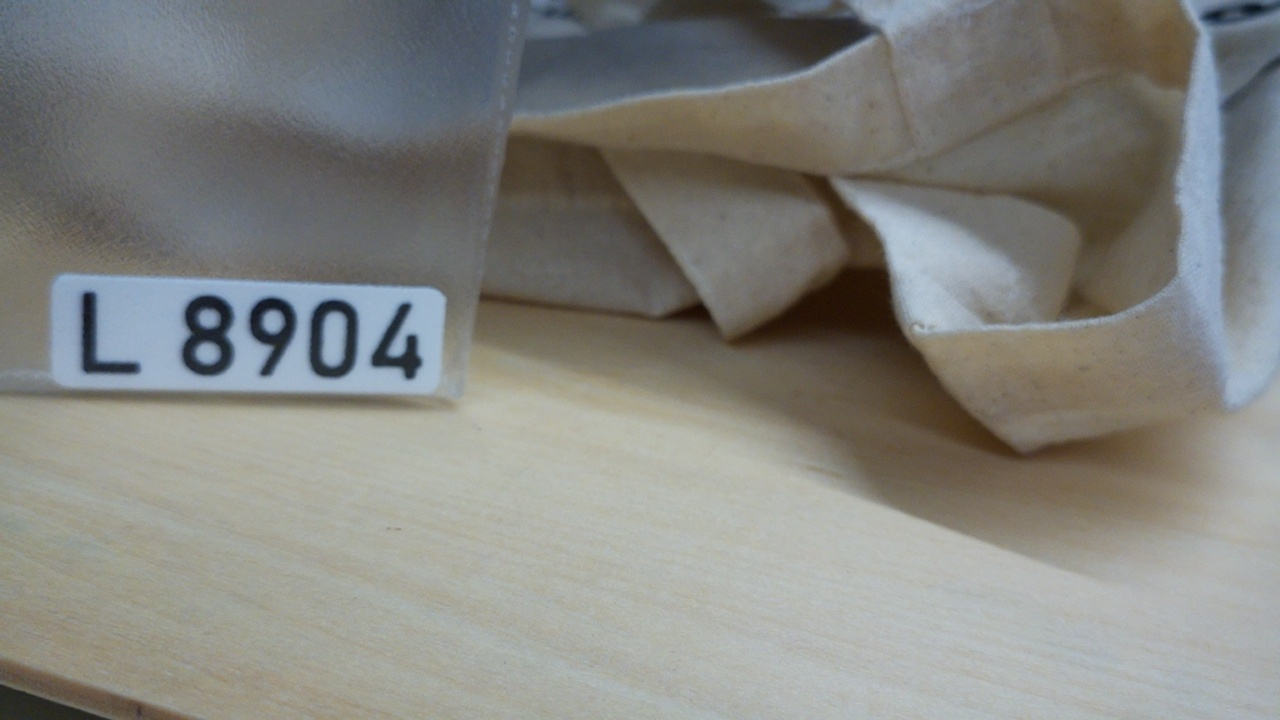license_plate: (47, 271, 449, 399)
